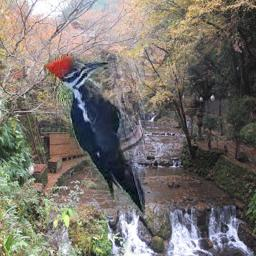Woodpecker: (45, 55, 146, 216)
